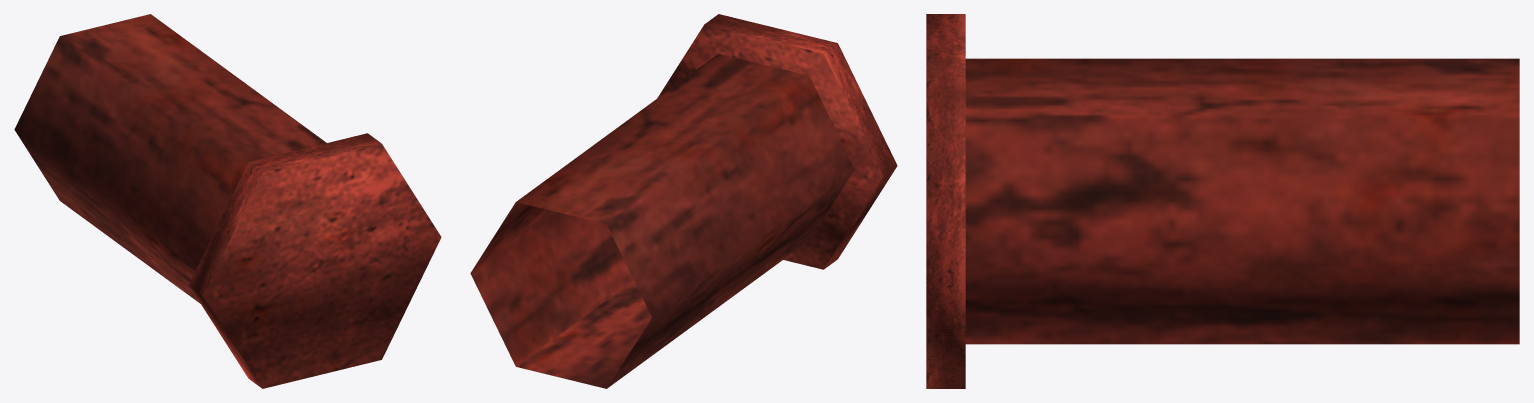
File: small_red_1.fbx
The picture shows the model from 3 angles, left to right: view 1: azimuth 30°, elevation 25°; view 2: azimuth 150°, elevation 25°; view 3: azimuth 270°, elevation 25°; orthographic projection. The views are drawn at different scales.
Visible parts, largest first — view 1: polySurface648; view 2: polySurface648; view 3: polySurface648.
Part boxes in pixels (x1,y1,x2,y2): polySurface648: [14, 14, 441, 388]; polySurface648: [470, 14, 897, 388]; polySurface648: [926, 14, 1519, 388].
Size of the model in its own units: 0.6563 by 0.5683 by 1.03.
